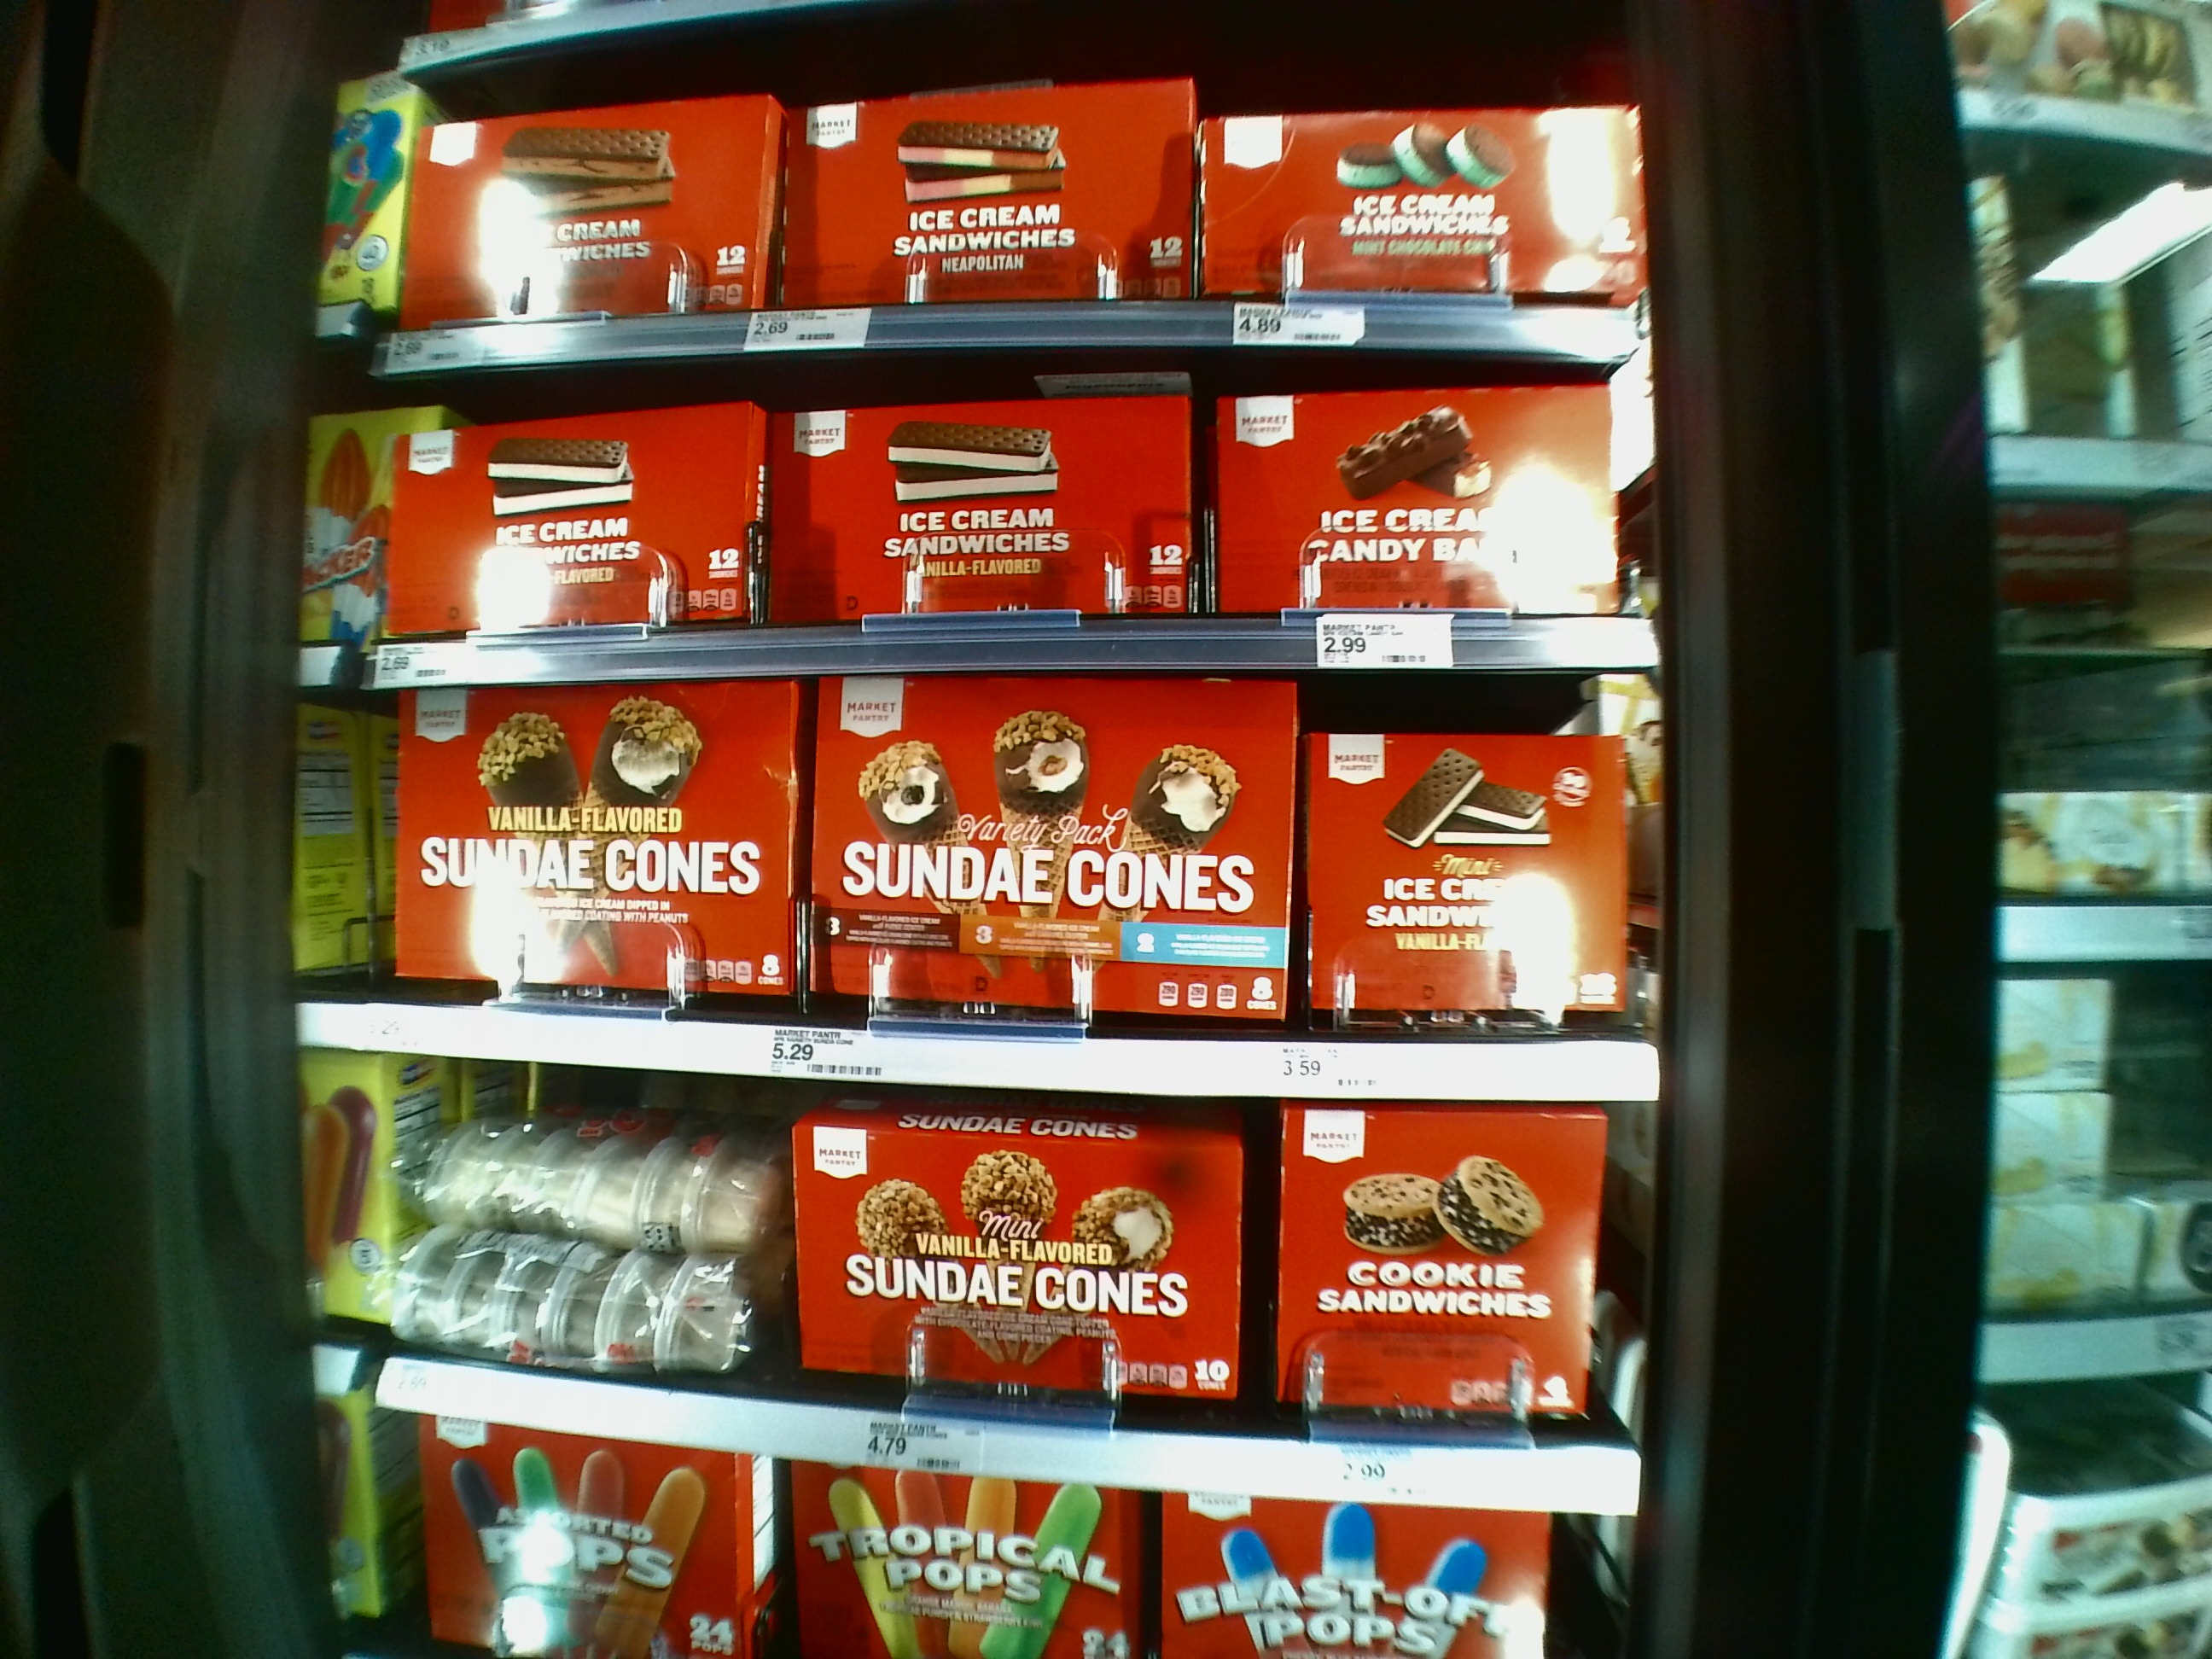shelf: (354, 678, 1665, 1101), (381, 1073, 1649, 1504), (362, 373, 1662, 673), (381, 63, 1642, 357)
